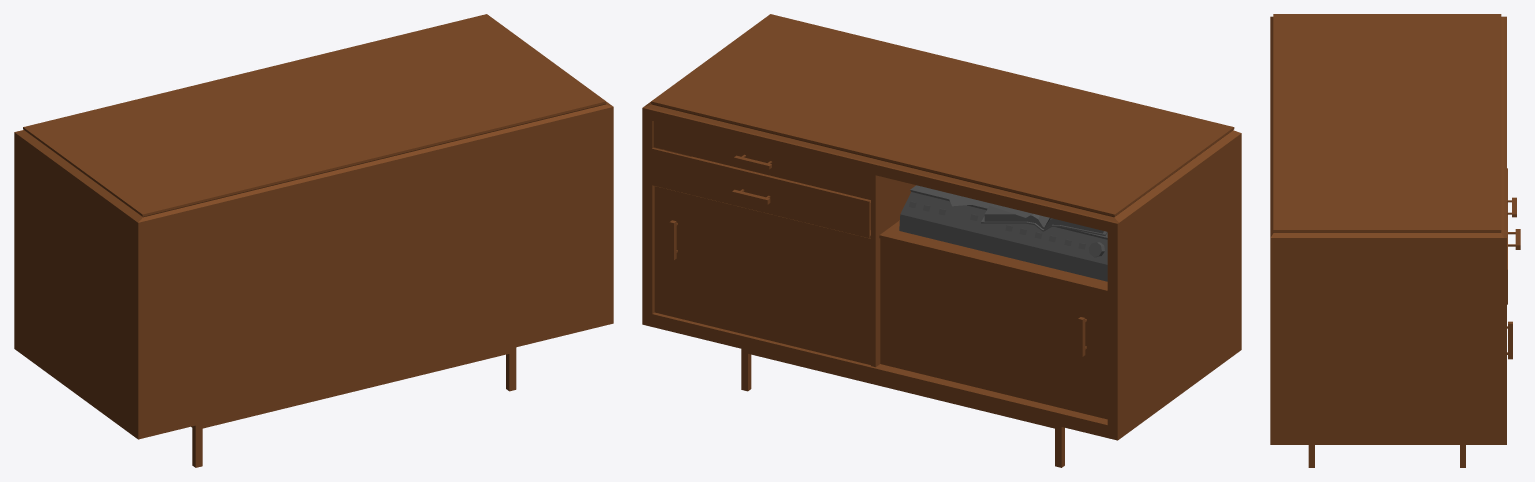
Rendered from S_MeubleTV.glb.
The picture shows the model from 3 angles, left to right: view 1: azimuth 30°, elevation 25°; view 2: azimuth 150°, elevation 25°; view 3: azimuth 270°, elevation 25°; orthographic projection. The views are drawn at different scales.
Parts seen in each view (by area): view 1: S_TVMeuble; view 2: S_TVMeuble, S_TVMeubleTiroirGrandDroite, S_TVMeubleTiroirGrandGauche, S_MusicPaperTVMeuble, S_TVMeubleTiroirBas, S_TVMeubleTiroirHaut; view 3: S_TVMeuble, S_TVMeubleTiroirBas.
Part boxes in pixels (<box>): S_TVMeuble: <box>14,14,613,467</box>; S_TVMeuble: <box>642,14,1241,467</box>; S_TVMeubleTiroirGrandDroite: <box>880,238,1107,419</box>; S_TVMeubleTiroirGrandGauche: <box>654,186,870,364</box>; S_MusicPaperTVMeuble: <box>899,185,1107,281</box>; S_TVMeubleTiroirBas: <box>652,148,870,237</box>; S_TVMeubleTiroirHaut: <box>653,121,870,197</box>; S_TVMeuble: <box>1270,14,1506,467</box>; S_TVMeubleTiroirBas: <box>1507,168,1520,304</box>.
Bounding box in the file's own units: 1.2 × 0.6831 × 0.5703.
